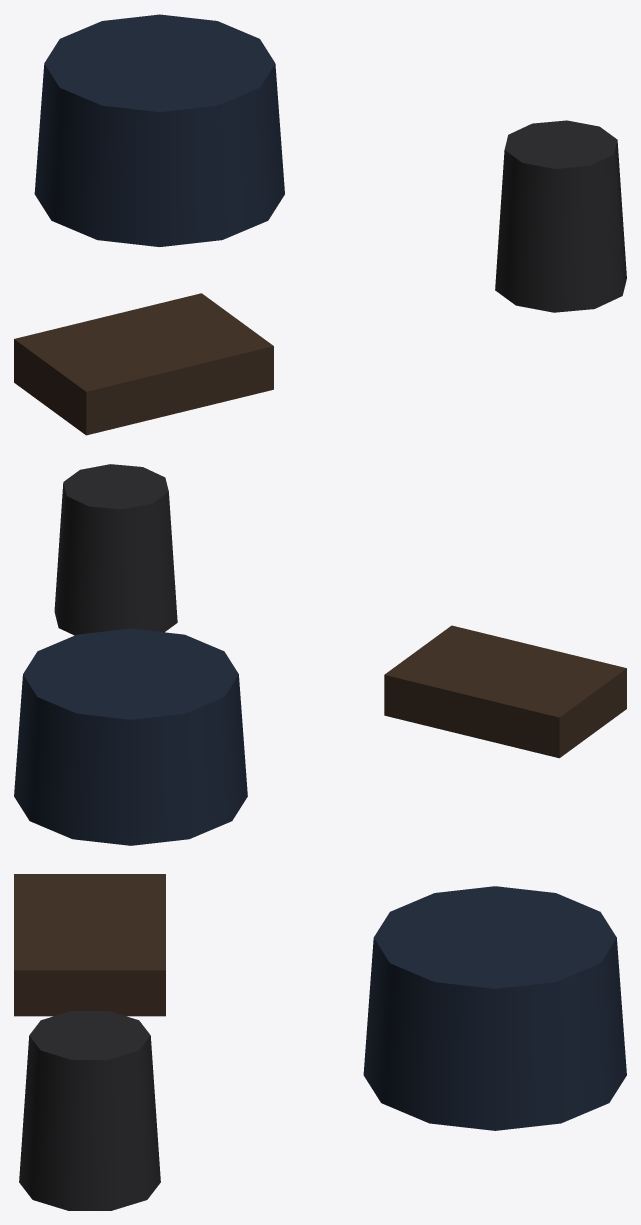
The model's file is dng_04.glb.
The picture shows the model from 3 angles, top to bottom: view 1: azimuth 30°, elevation 25°; view 2: azimuth 150°, elevation 25°; view 3: azimuth 270°, elevation 25°; orthographic projection. The views are drawn at different scales.
Parts seen in each view (by area): view 1: DNG_04; view 2: DNG_04; view 3: DNG_04.
Part boxes in pixels (x1,y1,x2,y2): DNG_04: (14, 14, 626, 435); DNG_04: (14, 464, 626, 845); DNG_04: (14, 874, 626, 1210).
Size of what is drawn, in the model's own units: 13.58 by 3.2 by 12.1.
